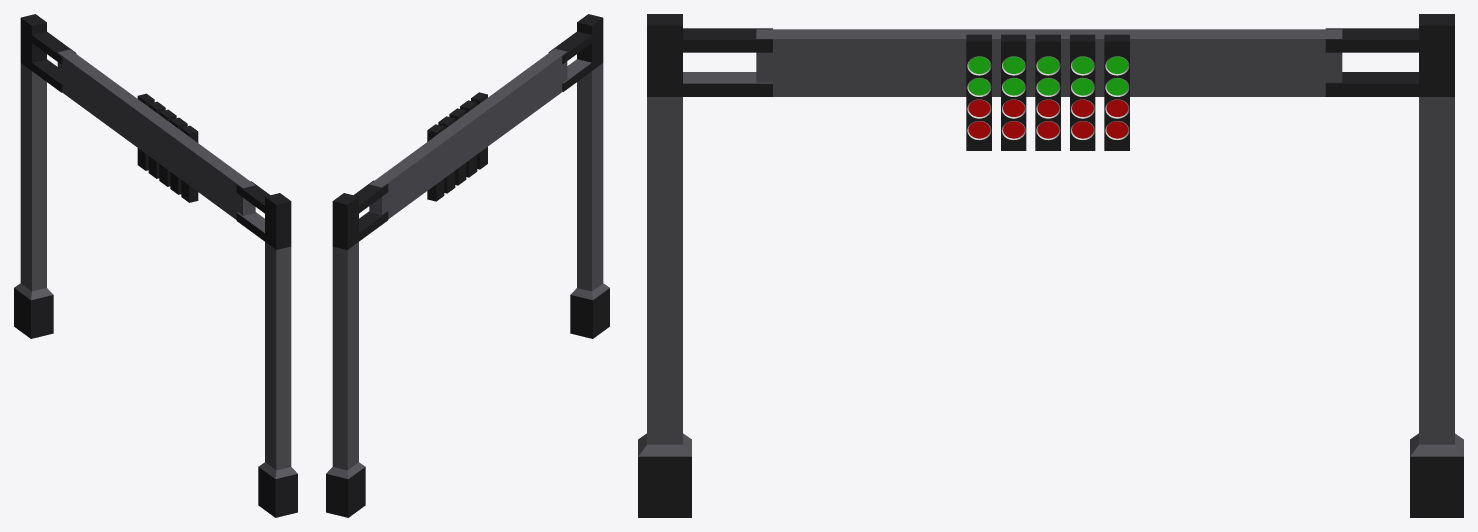
Rendered from lampu_start.glb.
3 views of the same model, side by side, from view 1: azimuth 30°, elevation 25°; view 2: azimuth 150°, elevation 25°; view 3: azimuth 270°, elevation 25° (orthographic). The views are drawn at different scales.
Parts seen in each view (by area): view 1: Cube.394; view 2: Cube.394; view 3: Cube.394.
Boxes of the visible parts, bbox=[...] form: Cube.394: bbox=[14, 14, 297, 517]; Cube.394: bbox=[326, 14, 609, 517]; Cube.394: bbox=[638, 14, 1463, 517].
Size of the model in its own units: 0.9777 by 10.42 by 15.93.
